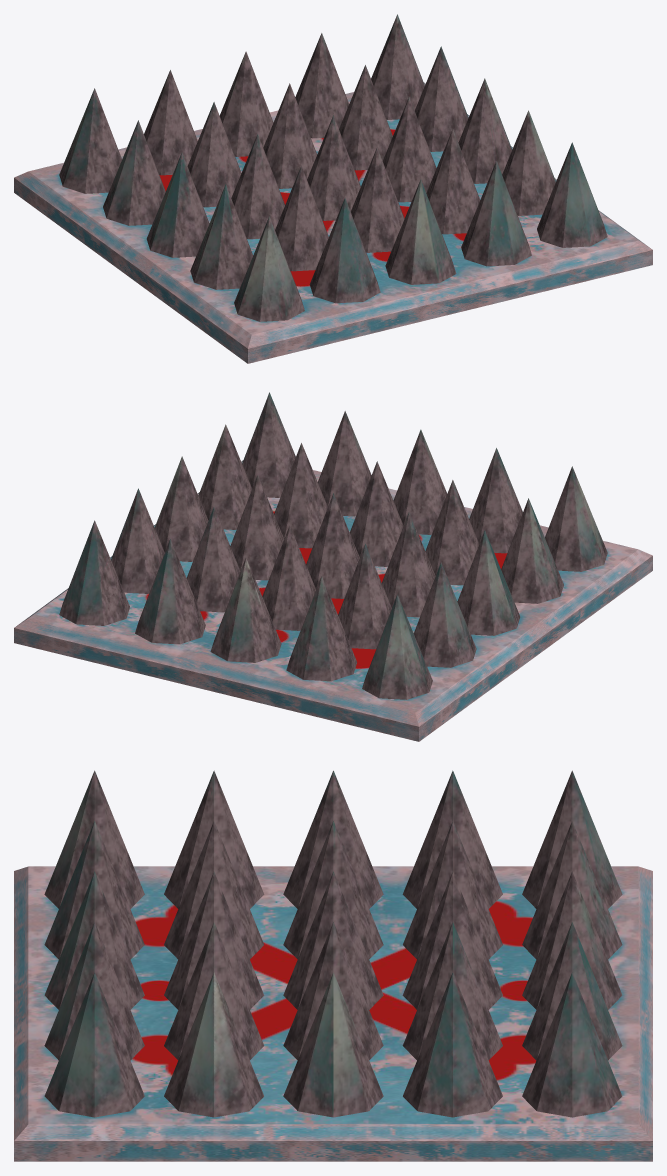
The picture shows the model from 3 angles, top to bottom: view 1: azimuth 30°, elevation 25°; view 2: azimuth 150°, elevation 25°; view 3: azimuth 270°, elevation 25°; orthographic projection. The views are drawn at different scales.
Parts seen in each view (by area): view 1: Cone, Cube; view 2: Cone, Cube; view 3: Cone, Cube.
Part boxes in pixels (left/top/right/bottom): Cone: left=59, top=14, right=607, bottom=321; Cube: left=14, top=82, right=652, bottom=363; Cone: left=59, top=392, right=607, bottom=699; Cube: left=14, top=460, right=652, bottom=741; Cone: left=44, top=770, right=622, bottom=1117; Cube: left=14, top=866, right=652, bottom=1161.
Size of the model in its own units: 468 by 126 by 468.
